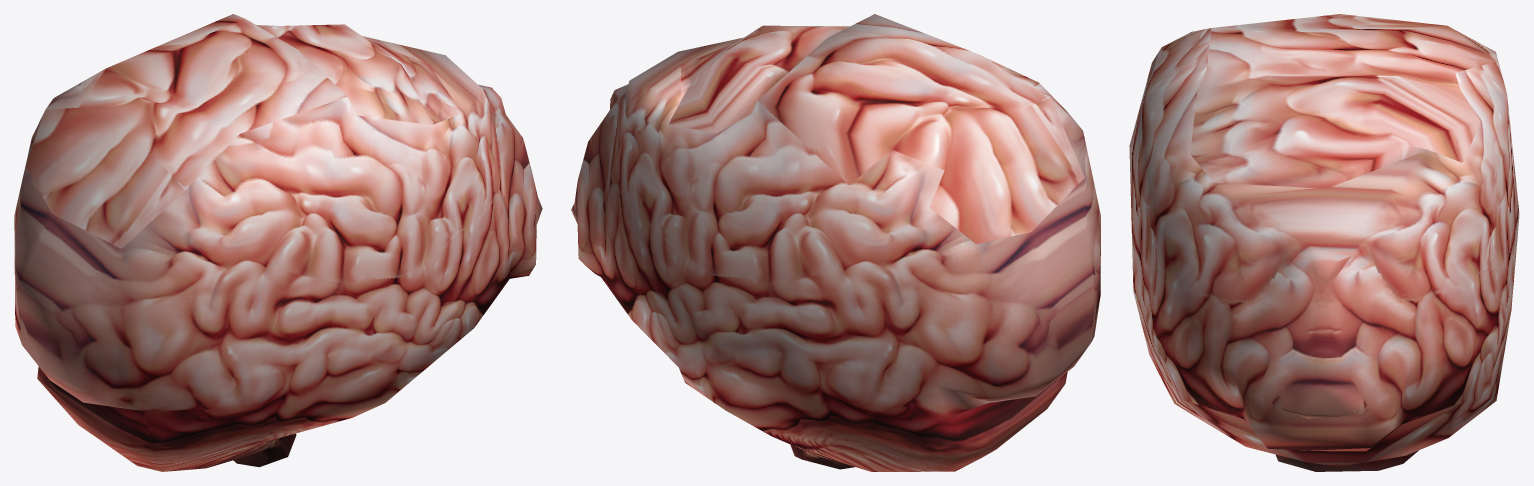
Rendered from AuthenticBrain.fbx.
3 views of the same model, side by side, from view 1: azimuth 30°, elevation 25°; view 2: azimuth 150°, elevation 25°; view 3: azimuth 270°, elevation 25° (orthographic). The views are drawn at different scales.
Parts seen in each view (by area): view 1: Brain; view 2: Brain; view 3: Brain.
Boxes of the visible parts, x1=… form: Brain: x1=14, y1=14, x2=542, y2=471; Brain: x1=571, y1=14, x2=1100, y2=471; Brain: x1=1129, y1=14, x2=1519, y2=471.
Size of the model in its own units: 0.1501 by 0.1157 by 0.0951.
